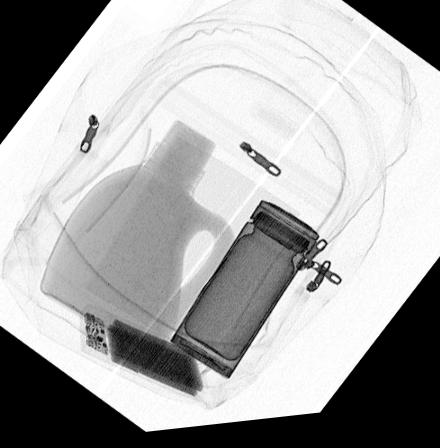Powerbank: (77, 305, 204, 405)
